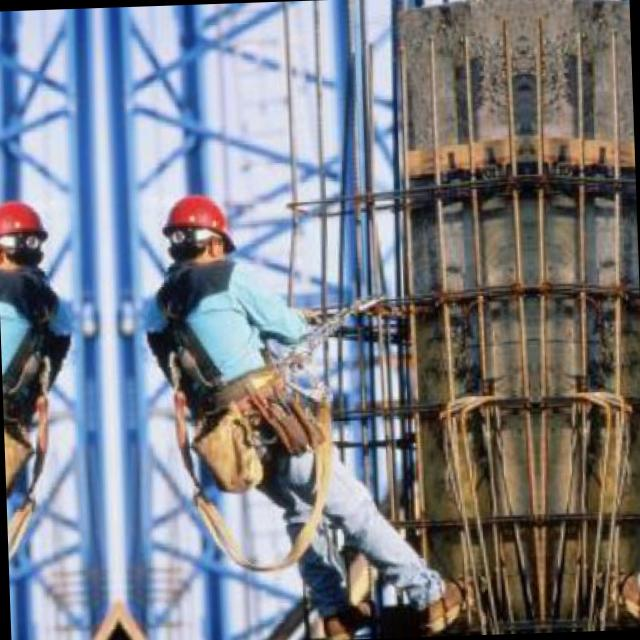helmet: (162, 186, 238, 274), (0, 192, 47, 281)
